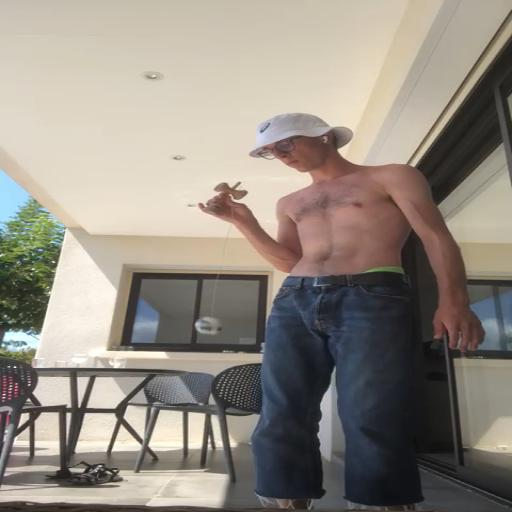kendama_ball: (194, 316, 222, 334)
